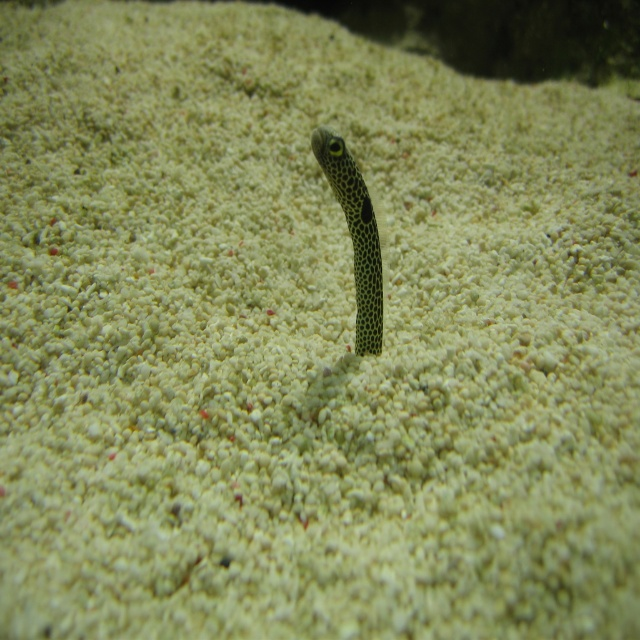Snake: (310, 124, 383, 355)
